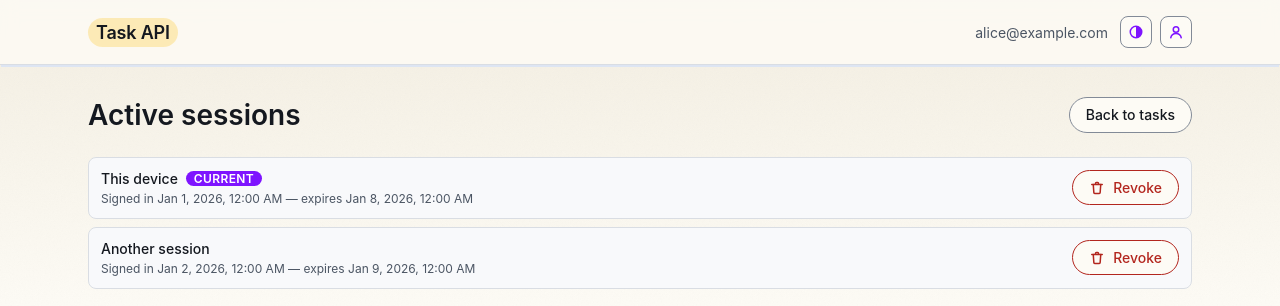
SessionsPage › revokes a session and removes it from the list
Expected: the text "Another session" is shown, [101,240,210,256]
Click the button "Revoke" in the row of "Another session".
click(1126, 258)  # box [1072,240,1179,275]
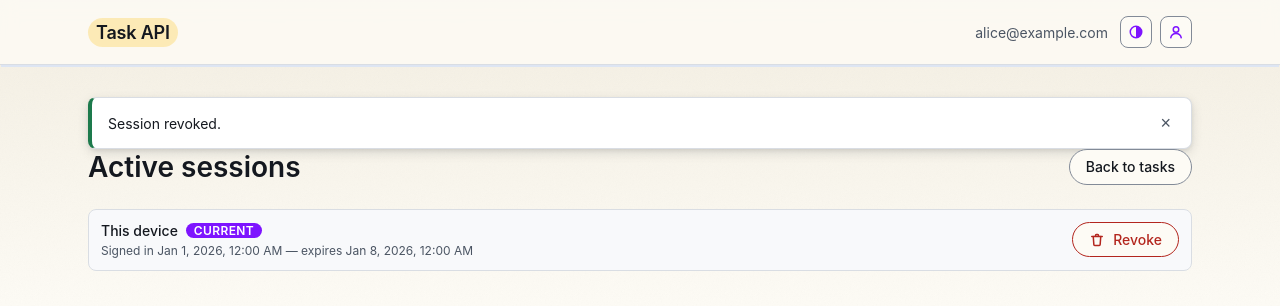
Expected: the text "This device" is shown, [101,222,178,238]
Result: the text "Session revoked." is shown at [108,114,221,132]
Result: the text "Another session" is gone
